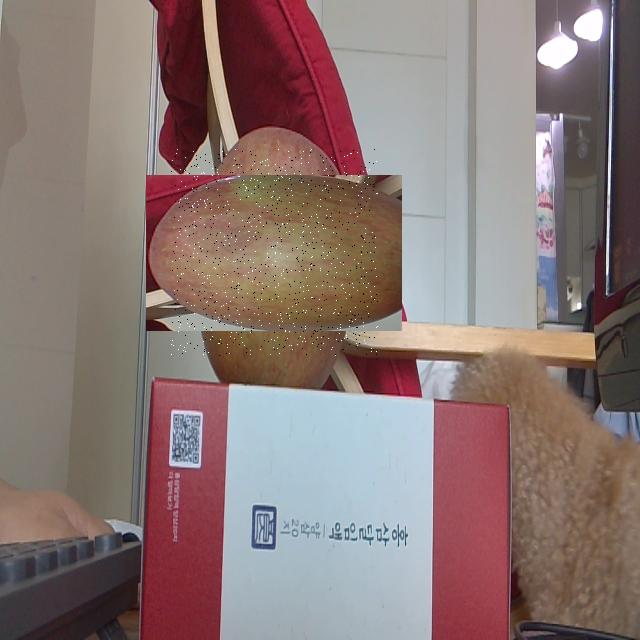apple: (171, 149, 378, 356)
